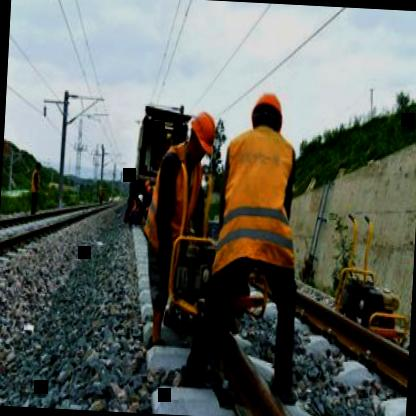helmet: (247, 86, 284, 143), (185, 106, 221, 161)
